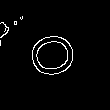O_E: (25, 28, 85, 82)
